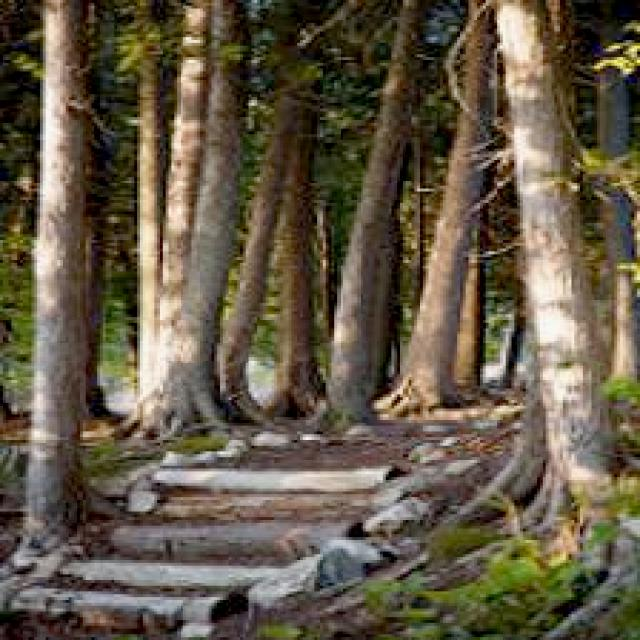upstair: (30, 424, 347, 621)
